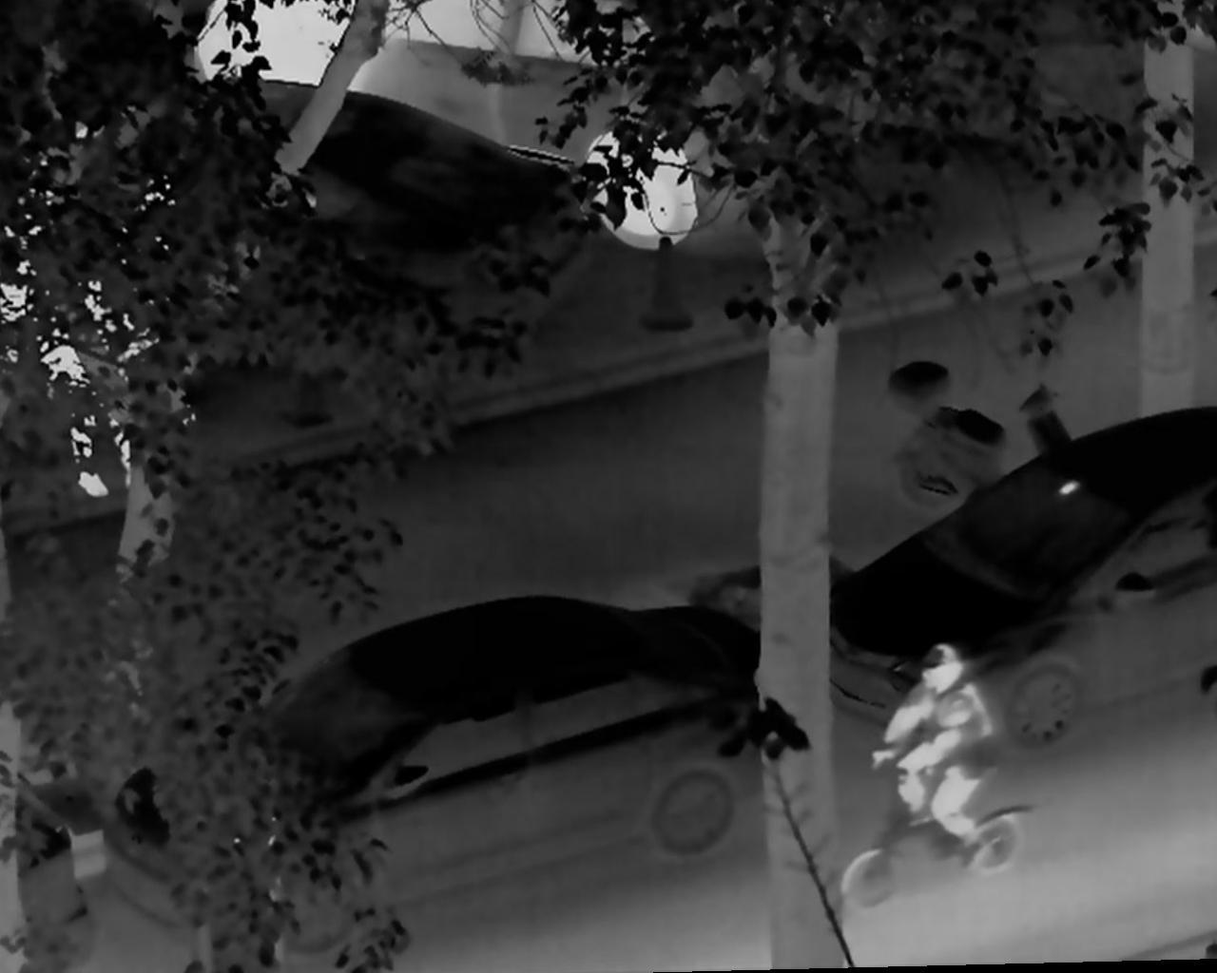person: (85, 111, 203, 374), (872, 624, 995, 875), (46, 257, 157, 505), (3, 119, 83, 414)
